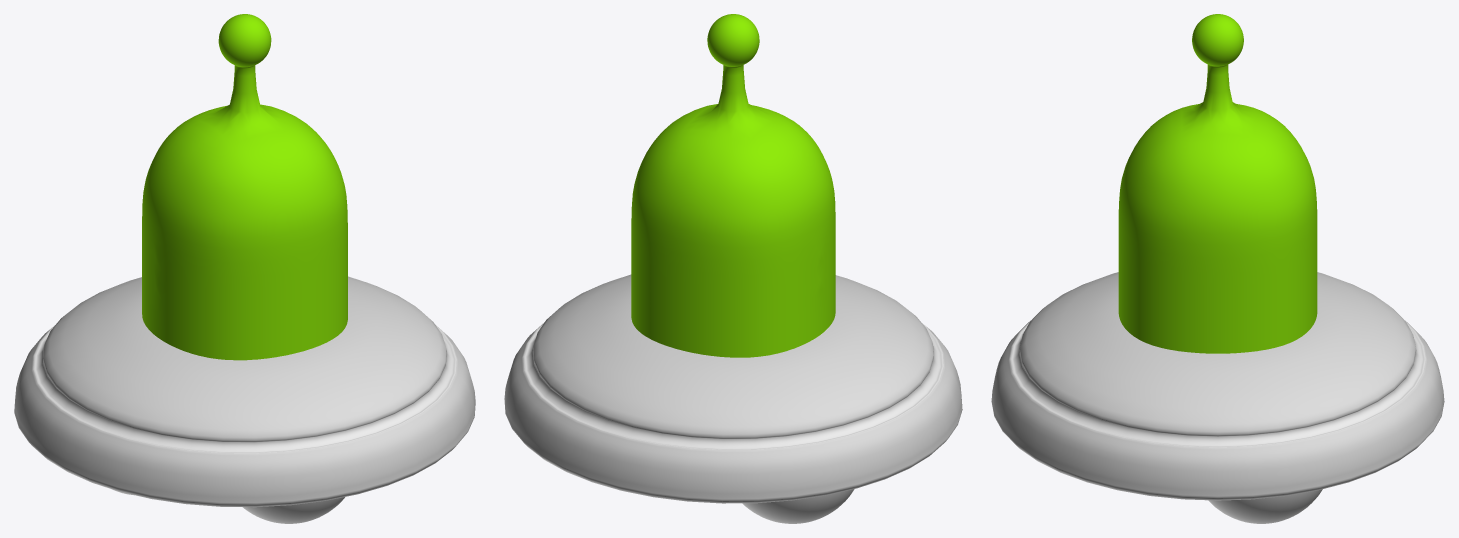
File: UFO Missile.fbx
3 views of the same model, side by side, from view 1: azimuth 30°, elevation 25°; view 2: azimuth 150°, elevation 25°; view 3: azimuth 270°, elevation 25° (orthographic).
Visible parts, largest first — view 1: DIGFO; view 2: DIGFO; view 3: DIGFO.
Boxes of the visible parts, left/top/right/bottom form: DIGFO: left=14, top=14, right=475, bottom=523; DIGFO: left=504, top=14, right=962, bottom=523; DIGFO: left=991, top=14, right=1444, bottom=523.
Bounding box in the file's own units: 17201 × 19207 × 17072.
